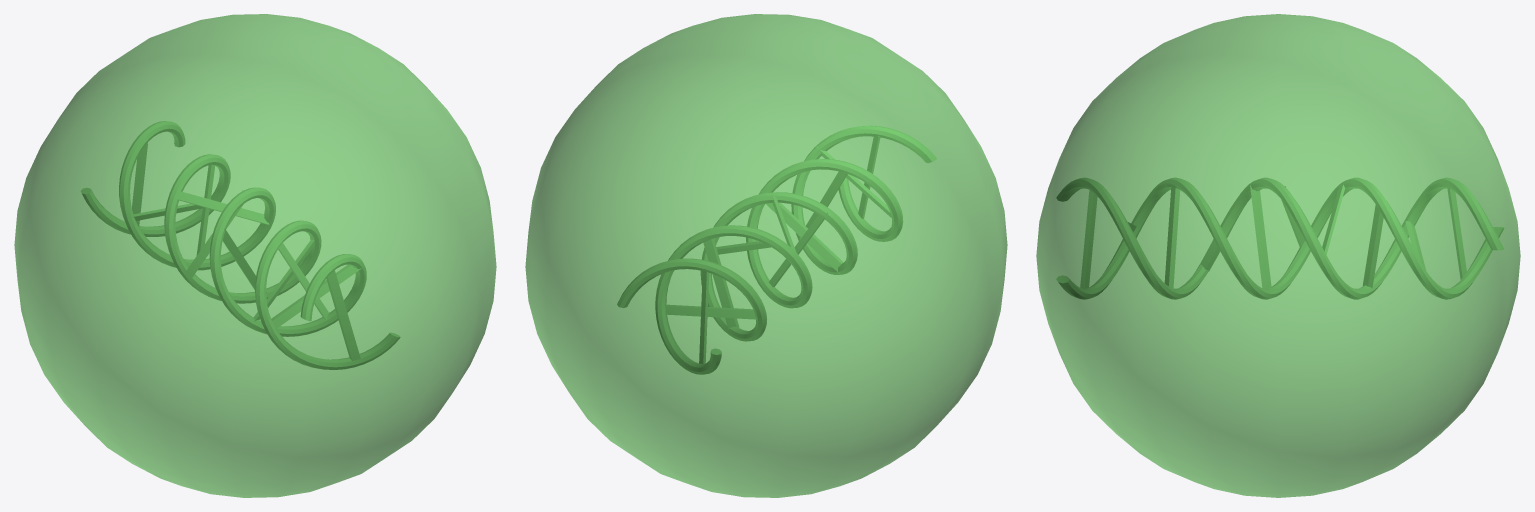
Rendered from tentaclepiece4.fbx.
The picture shows the model from 3 angles, left to right: view 1: azimuth 30°, elevation 25°; view 2: azimuth 150°, elevation 25°; view 3: azimuth 270°, elevation 25°; orthographic projection.
Parts seen in each view (by area): view 1: pSphere270, pHelix26; view 2: pSphere270, pHelix26; view 3: pSphere270, pHelix26.
Part boxes in pixels (x1,y1,x2,y2): pSphere270: [14, 14, 496, 497]; pHelix26: [81, 121, 400, 369]; pSphere270: [525, 14, 1007, 497]; pHelix26: [617, 125, 936, 374]; pSphere270: [1036, 14, 1520, 497]; pHelix26: [1056, 177, 1503, 299].
Size of the model in its own units: 10 by 10 by 10.
